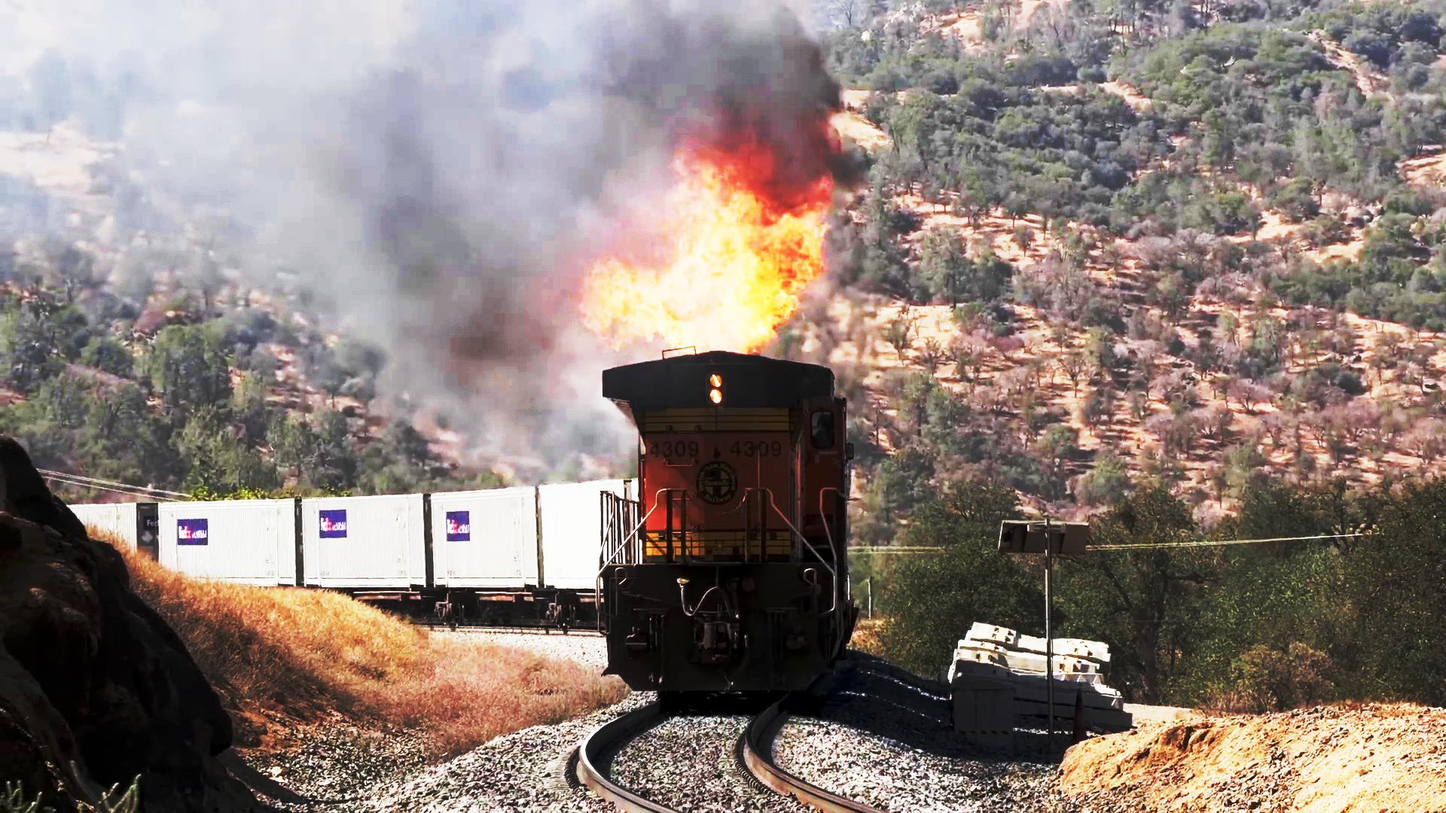fire: (575, 126, 820, 350)
